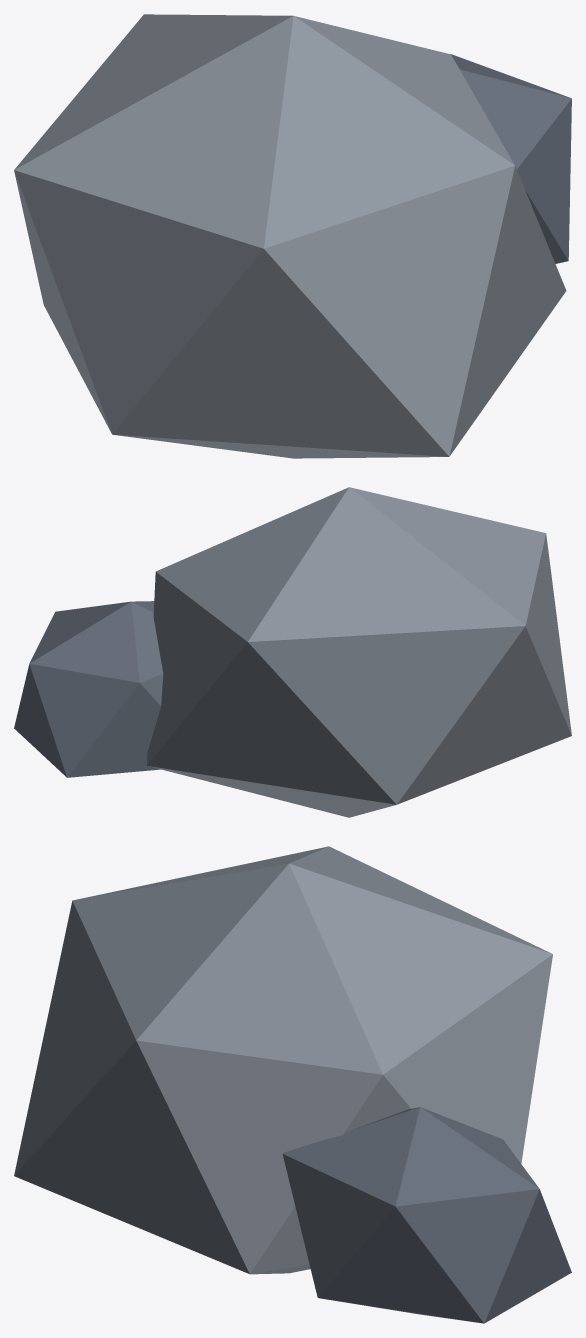
The model's file is rock.glb.
The picture shows the model from 3 angles, top to bottom: view 1: azimuth 30°, elevation 25°; view 2: azimuth 150°, elevation 25°; view 3: azimuth 270°, elevation 25°; orthographic projection. The views are drawn at different scales.
Parts seen in each view (by area): view 1: rock; view 2: rock; view 3: rock.
Boxes of the visible parts, x1=… form: rock: x1=14, y1=14, x2=571, y2=458; rock: x1=14, y1=487, x2=571, y2=817; rock: x1=14, y1=846, x2=571, y2=1323.
Size of the model in its own units: 2.45 by 1.72 by 2.13.
